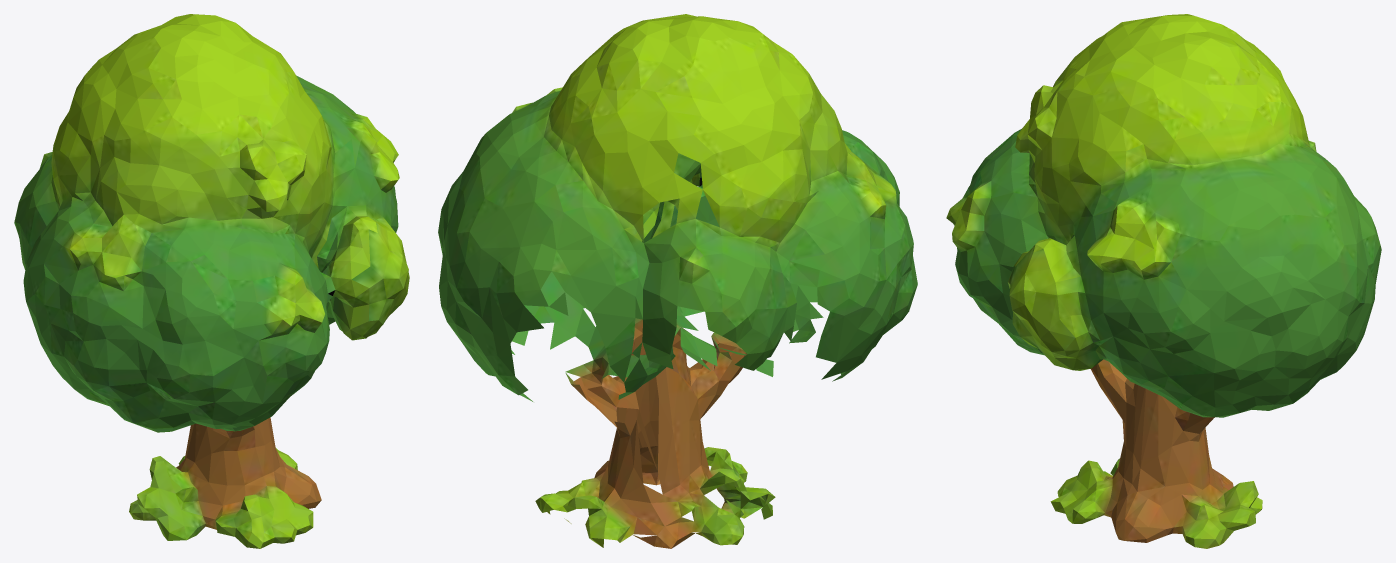
File: M-6_02_tree_b.glb
3 views of the same model, side by side, from view 1: azimuth 30°, elevation 25°; view 2: azimuth 150°, elevation 25°; view 3: azimuth 270°, elevation 25° (orthographic). The views are drawn at different scales.
Visible parts, largest first — view 1: loA; view 2: loA; view 3: loA.
Boxes of the visible parts, x1=… form: loA: x1=14, y1=14, x2=409, y2=548; loA: x1=438, y1=14, x2=917, y2=548; loA: x1=946, y1=14, x2=1381, y2=548.
Size of the model in its own units: 5.19 by 6.5 by 5.4.
1 material, 1 textured.
